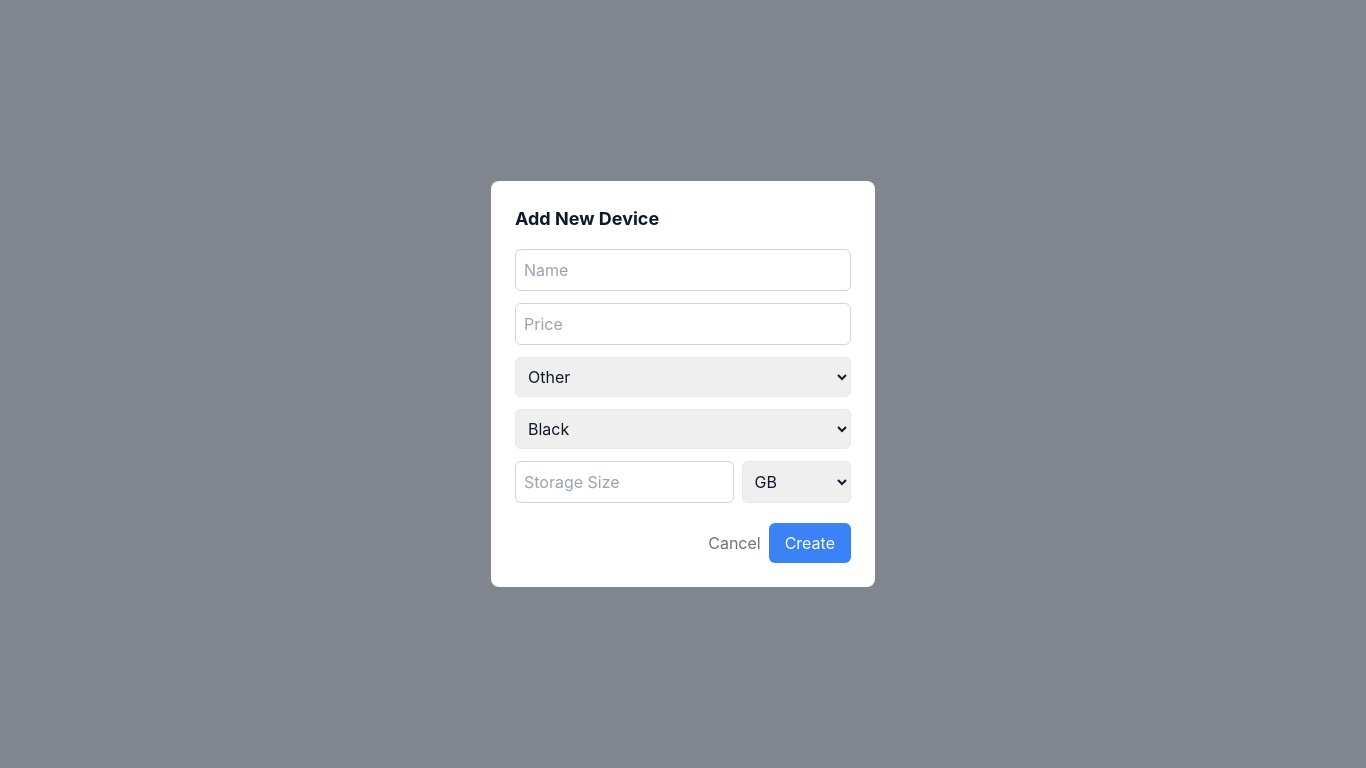
Test: CreateDeviceForm Component › does not submit with missing required fields
Click the button "Create": (810, 543) [769,523,851,563]
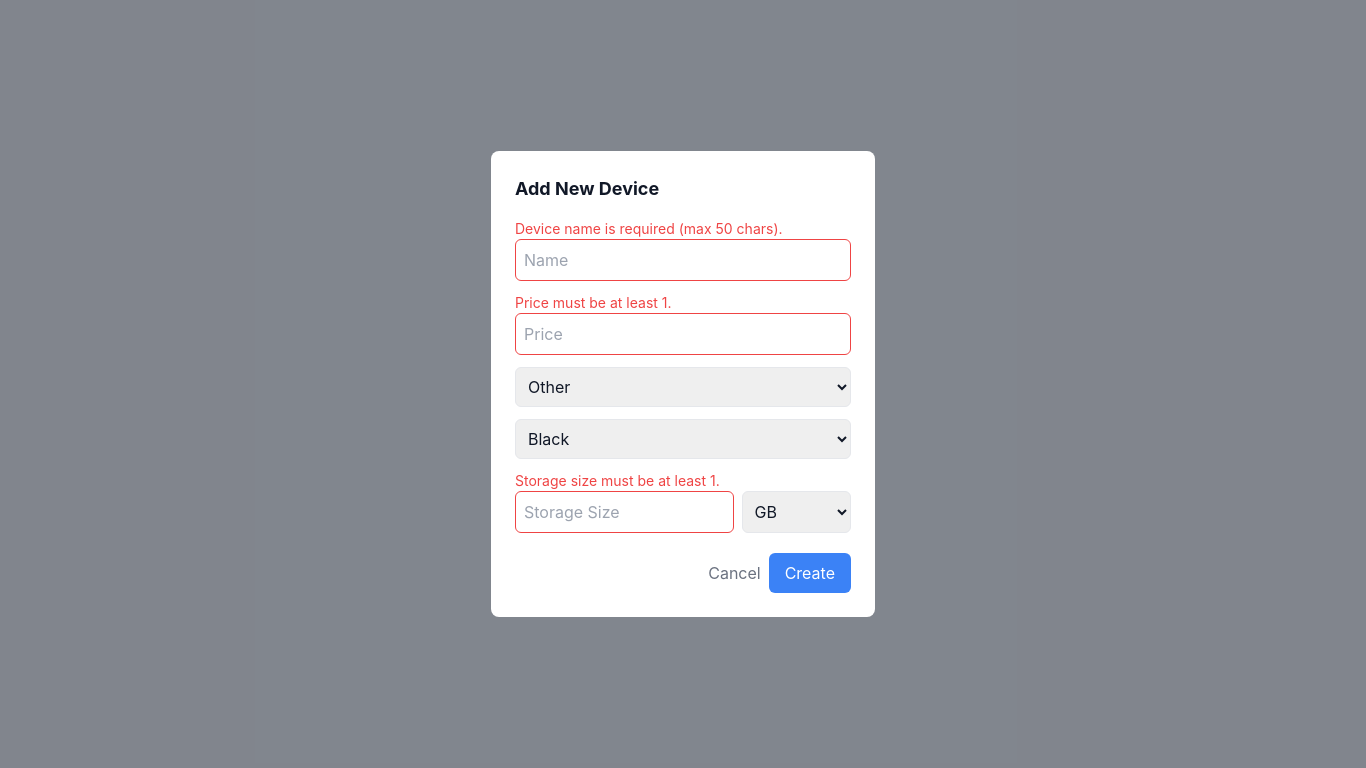
Result: the text "Device name is required (max 50 chars)." is shown at [515,220,782,237]
